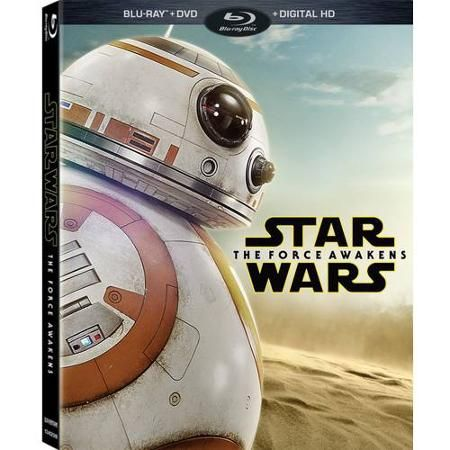bb8: (61, 34, 277, 450)
